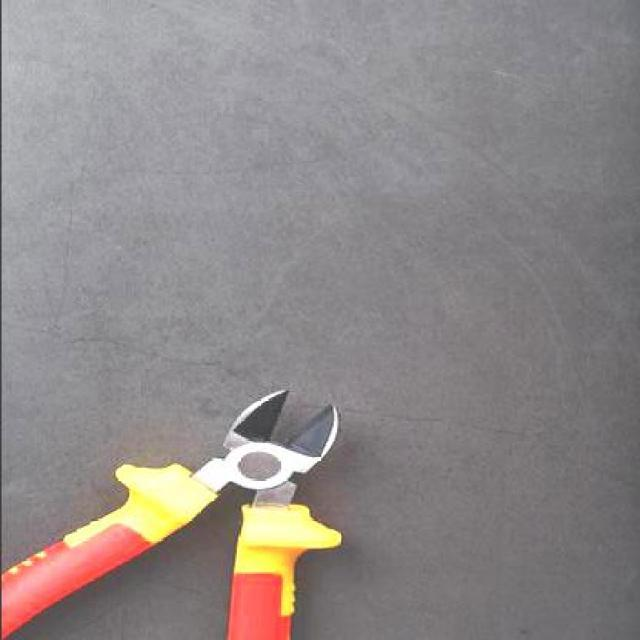pliers: (1, 388, 344, 638)
